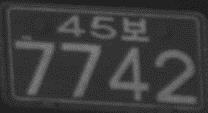2: (153, 47, 198, 105)
4: (108, 45, 149, 102), (55, 12, 86, 38)
5: (89, 14, 116, 40)
7: (60, 40, 102, 98), (13, 39, 55, 96)
보: (120, 15, 149, 42)
